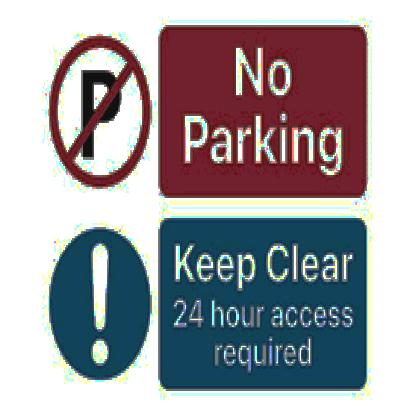No parking: (46, 33, 151, 187)
